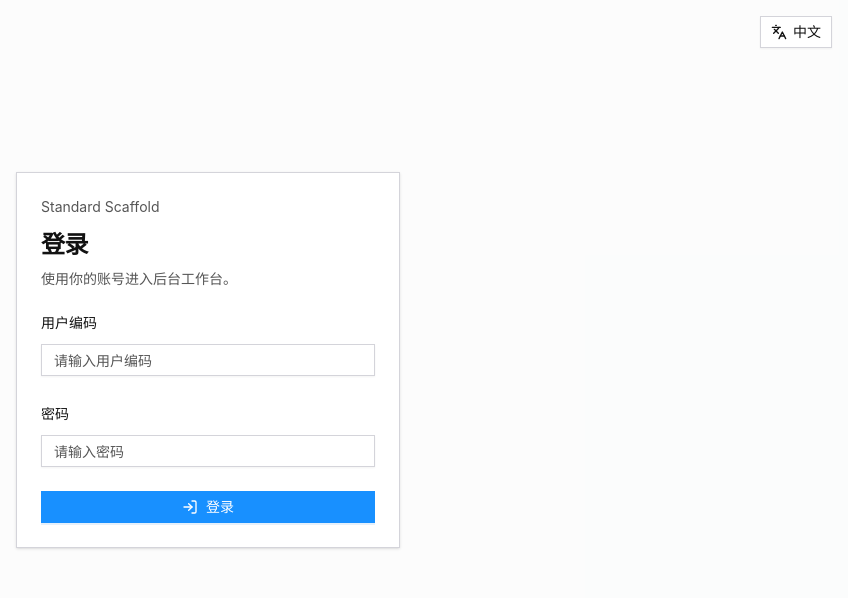
Test: LoginPage › shows validation errors without submitting empty credentials
This screenshot has width=848, height=598.
What coordinates should you click on to do the following:
click the button "登录"
I would click on:
 (208, 507)
Its box is [41,491,375,523].
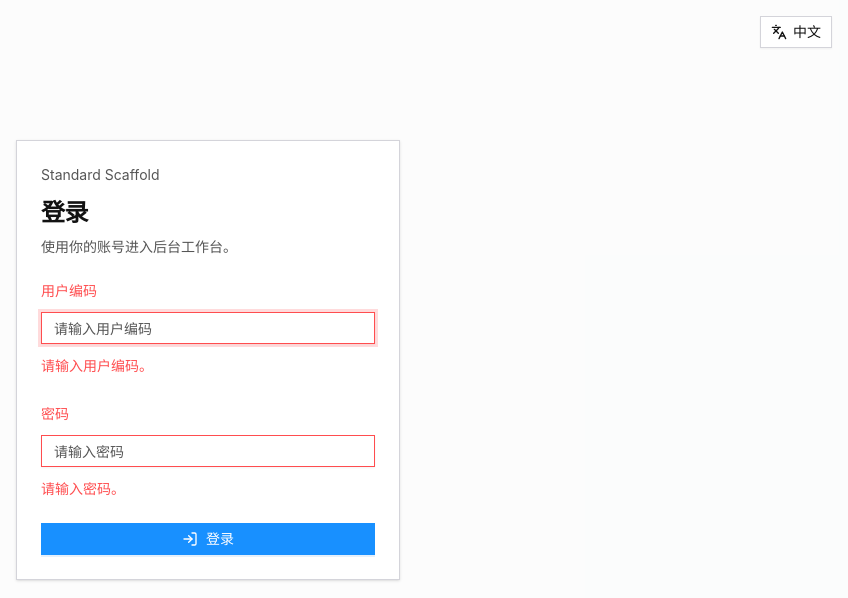
Expected: the text "请输入用户编码。" is shown, [41,357,153,374]
Expected: the text "请输入密码。" is shown, [41,480,125,497]
